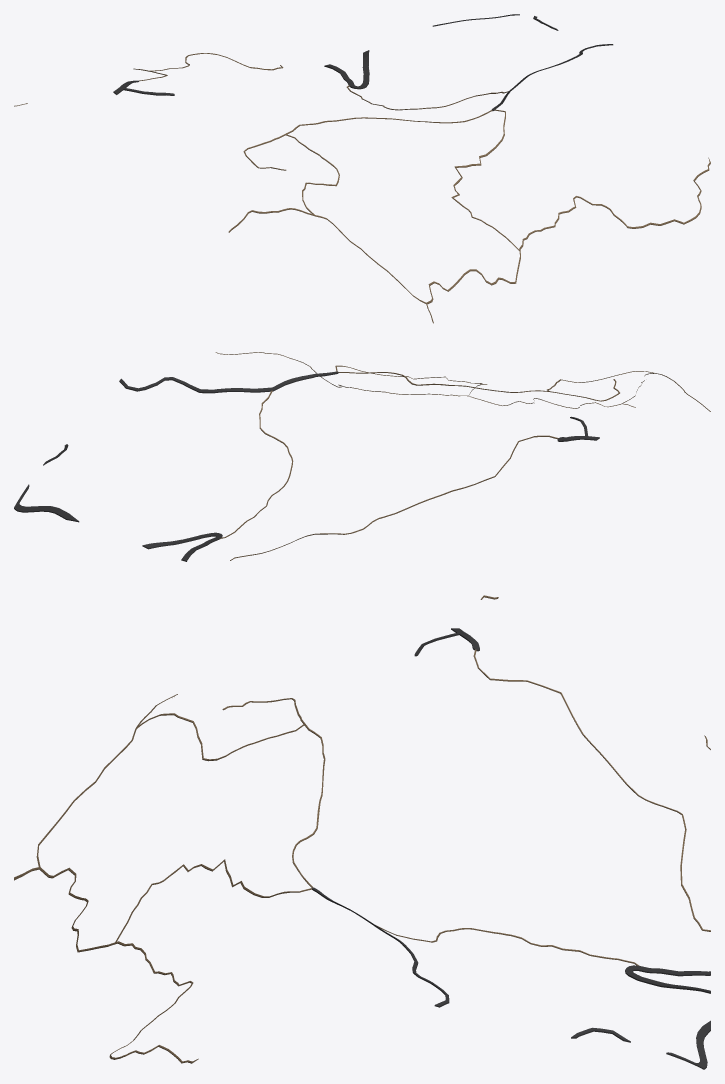
3 views of the same model, one above another, from view 1: azimuth 30°, elevation 25°; view 2: azimuth 150°, elevation 25°; view 3: azimuth 270°, elevation 25° (orthographic). The views are drawn at different scales.
Bounding box in the file's own units: 587 × 163 × 583.
